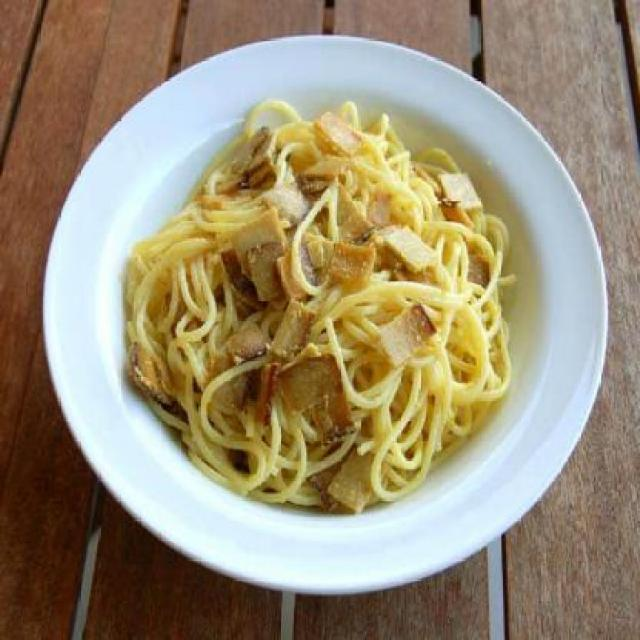Pasta with carbonara sauce: (95, 29, 603, 551)
